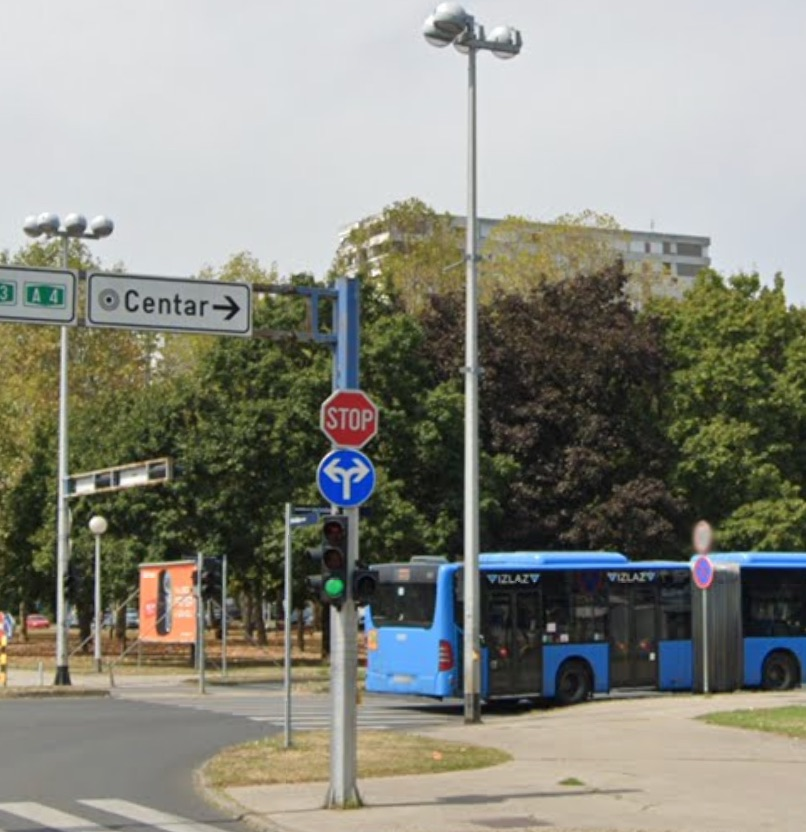Obavezno zaustavljanje: (321, 389, 377, 448)
